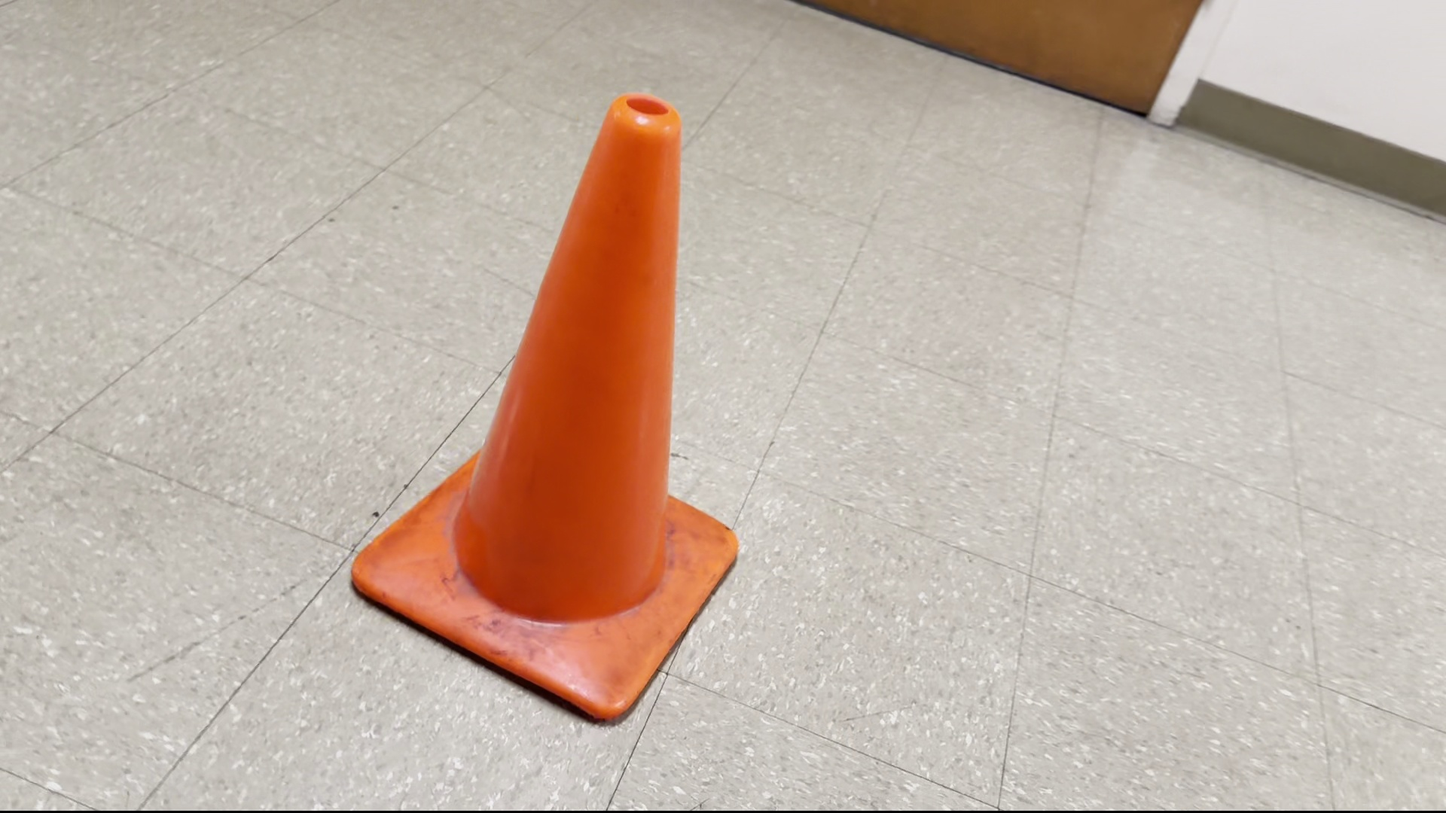traffic_cone: (350, 91, 740, 723)
